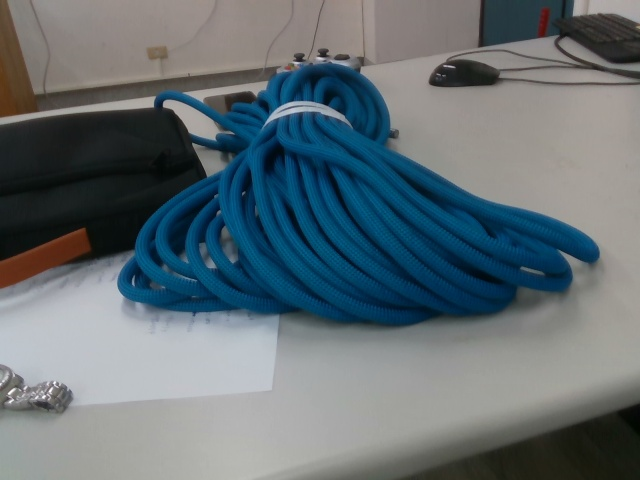rope: (117, 60, 605, 328)
